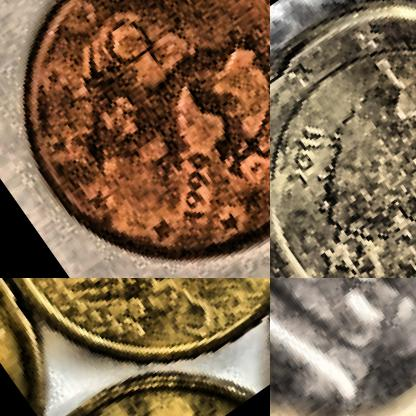coin: (0, 0, 269, 277), (270, 0, 415, 277), (0, 278, 269, 415), (270, 278, 415, 415)
